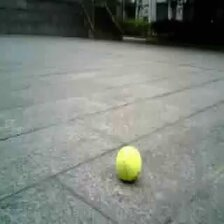tennis: (117, 146, 142, 181)
